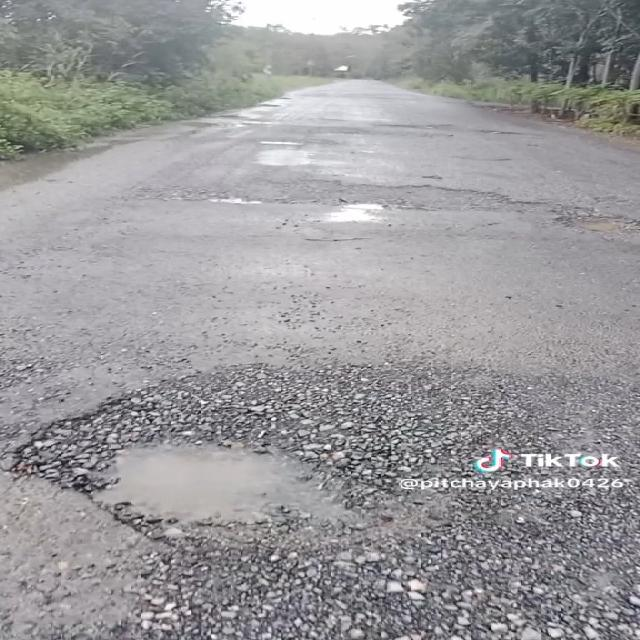Poth-hole: (520, 181, 640, 255)
